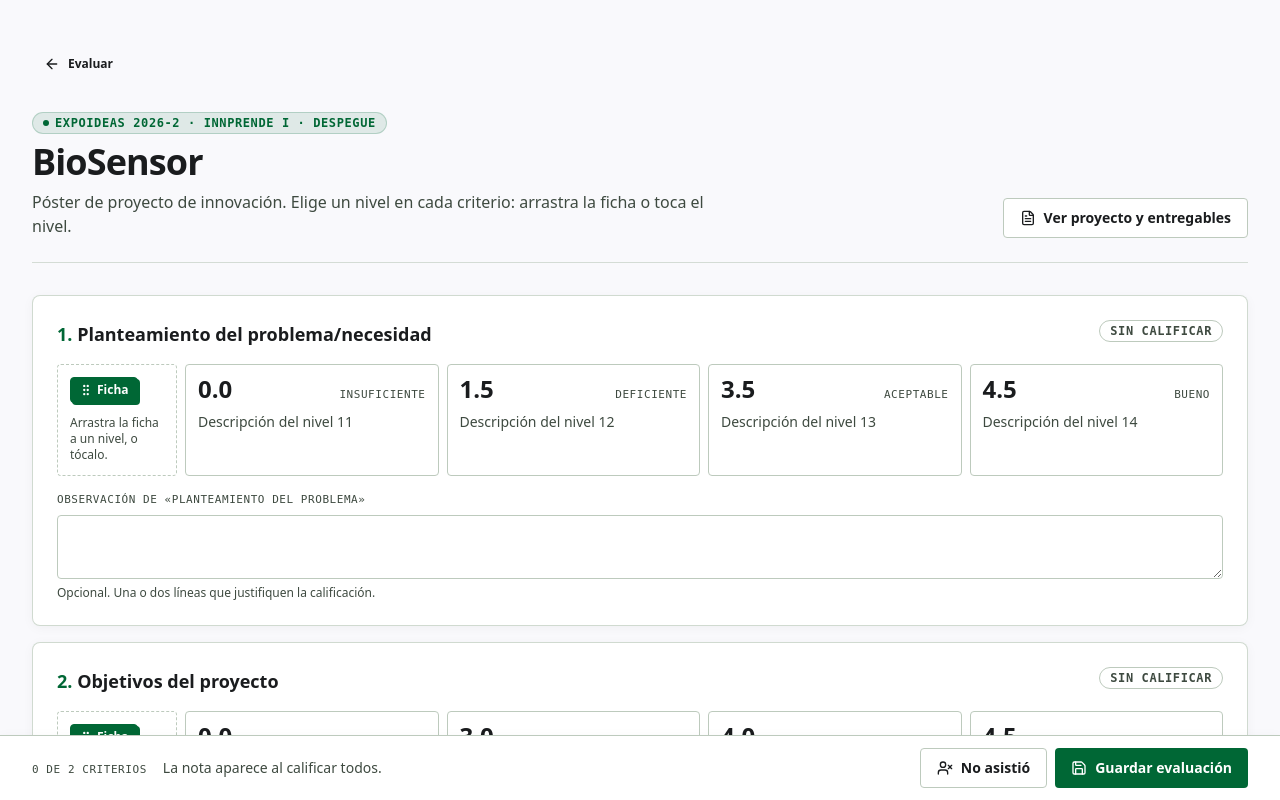
Scenario: El tablero del jurado › lo que rechaza la API se pinta en su criterio
What coordinates should you click on to do the following:
click the radio button with aria-label "Bueno, 4.5"
I would click on:
 (1096, 420)
Its box is [970,364,1223,476].
(page scrolled)
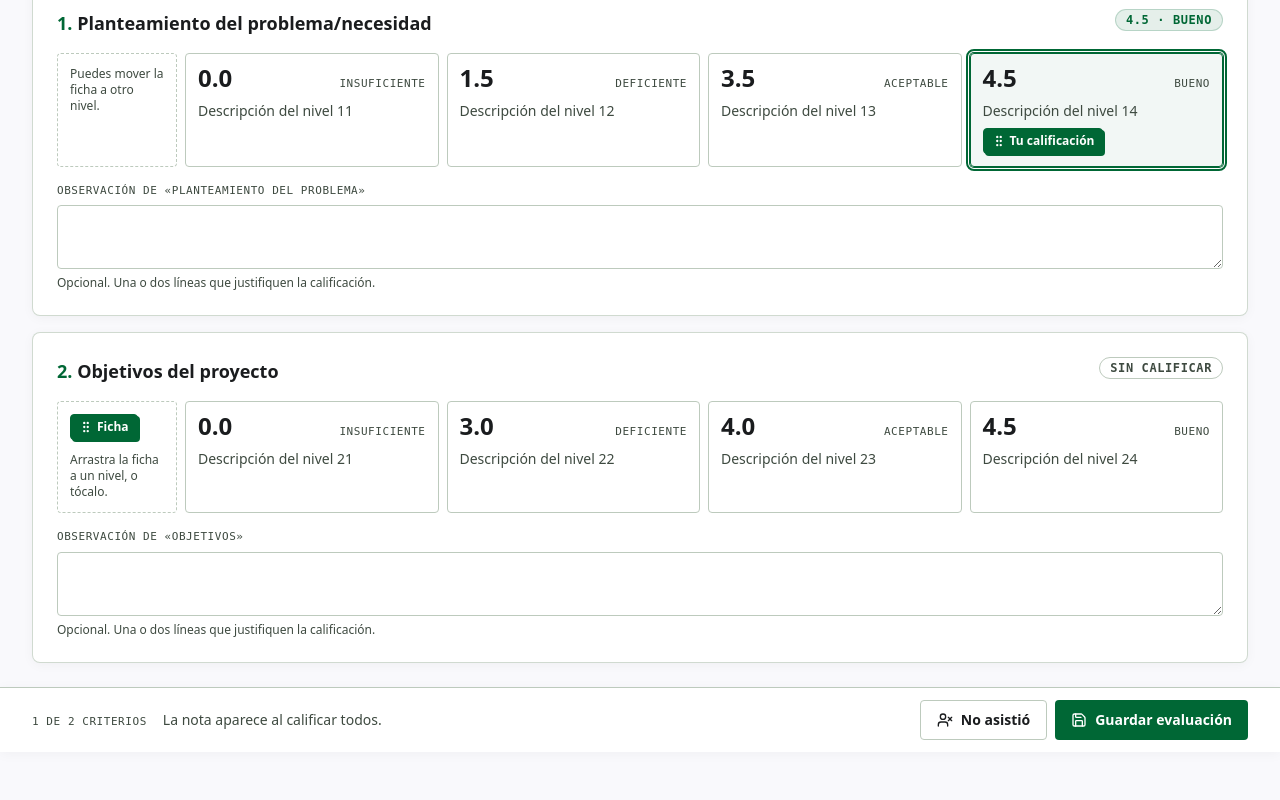
What coordinates should you click on to do the following:
click the radio button with aria-label "Aceptable, 4.0"
I would click on:
 (835, 457)
Its box is [708,401,962,513].
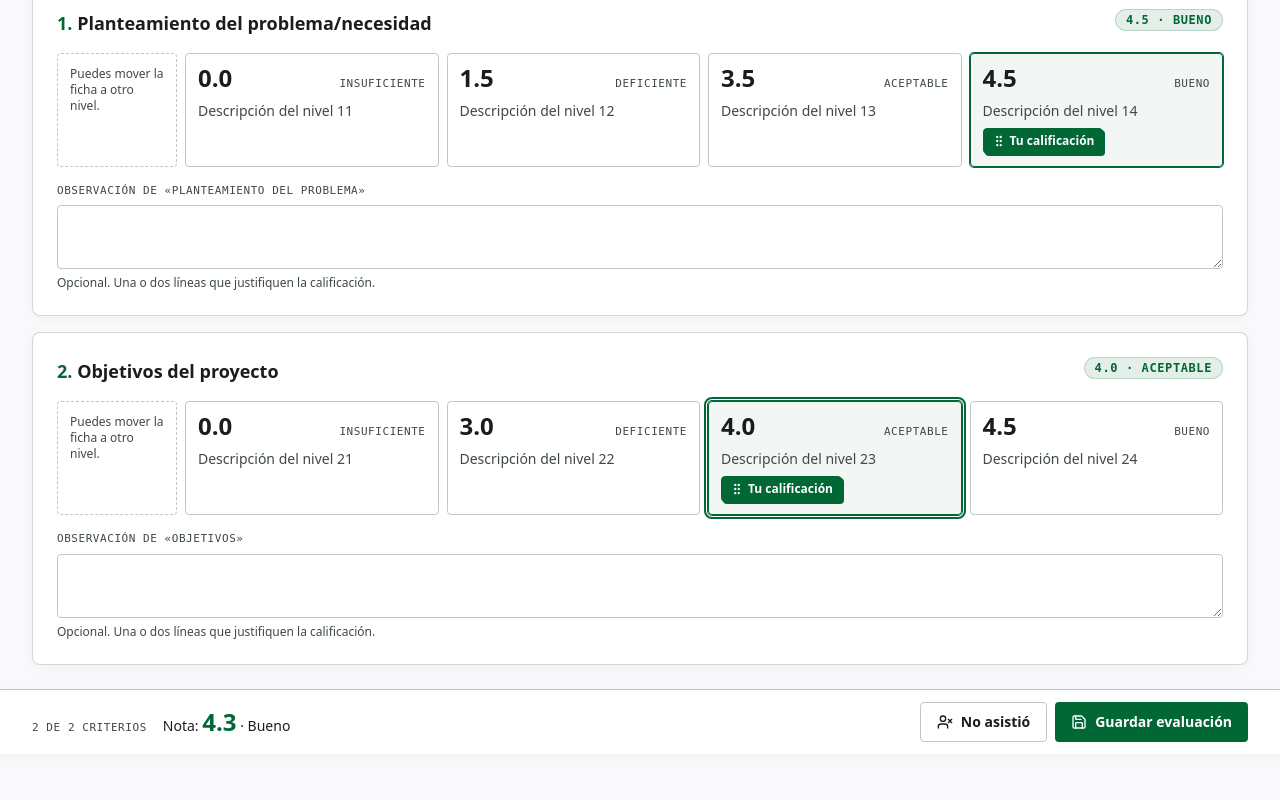
What coordinates should you click on to do the following:
click the button "Guardar evaluación"
I would click on:
 (1152, 722)
Its box is [1055,702,1248,742].
(page scrolled)
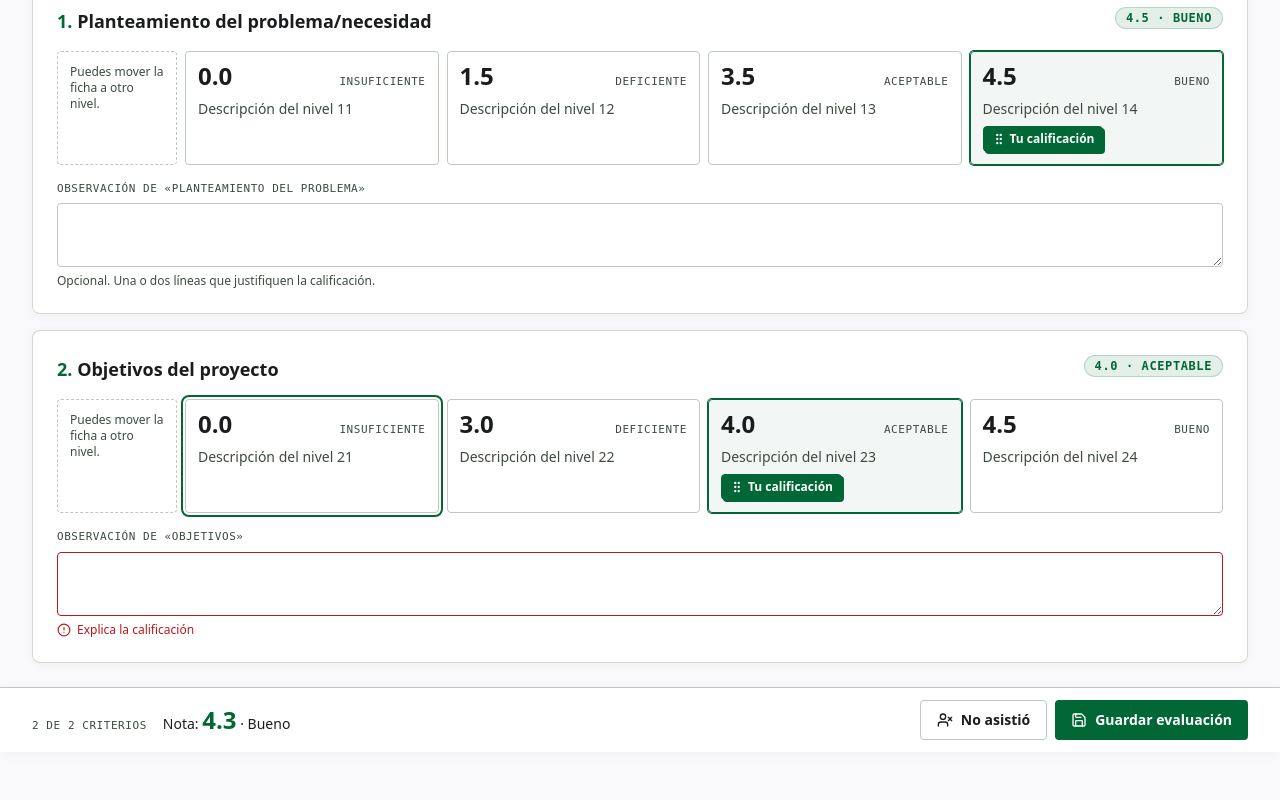
Expected: the text "Explica la calificación" is shown, [57,620,194,638]
